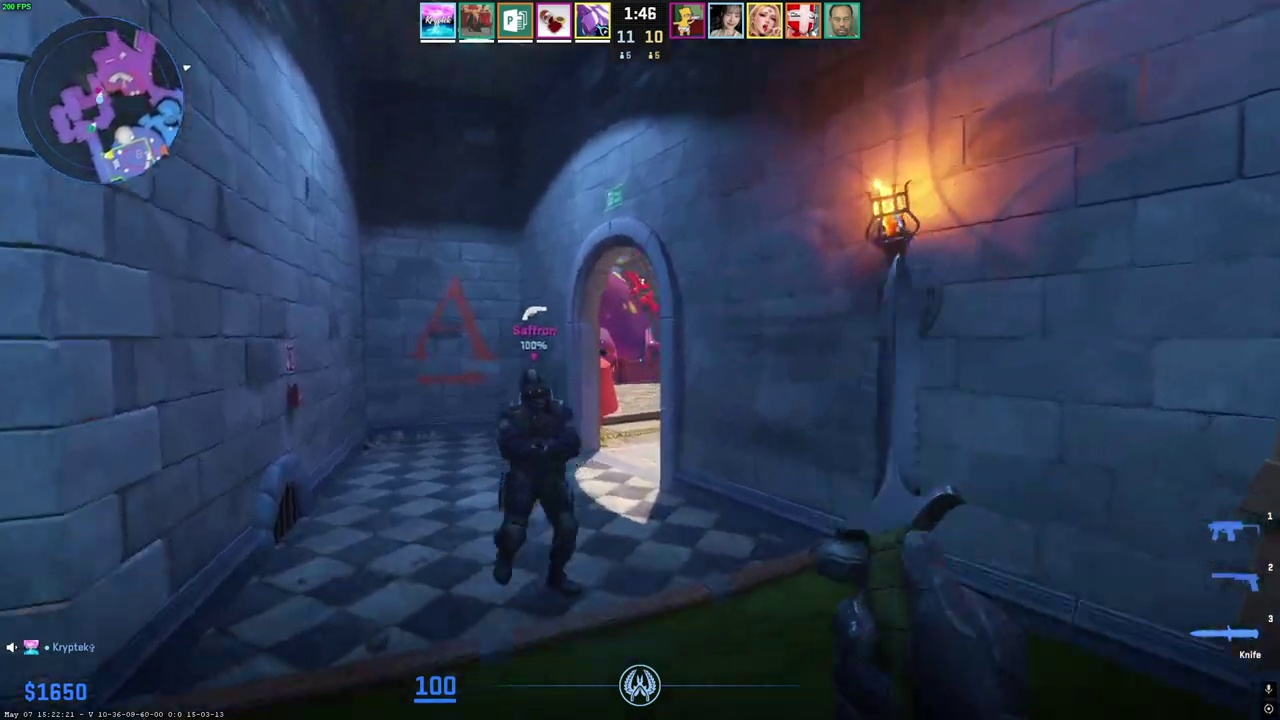CT: (492, 367, 582, 593)
